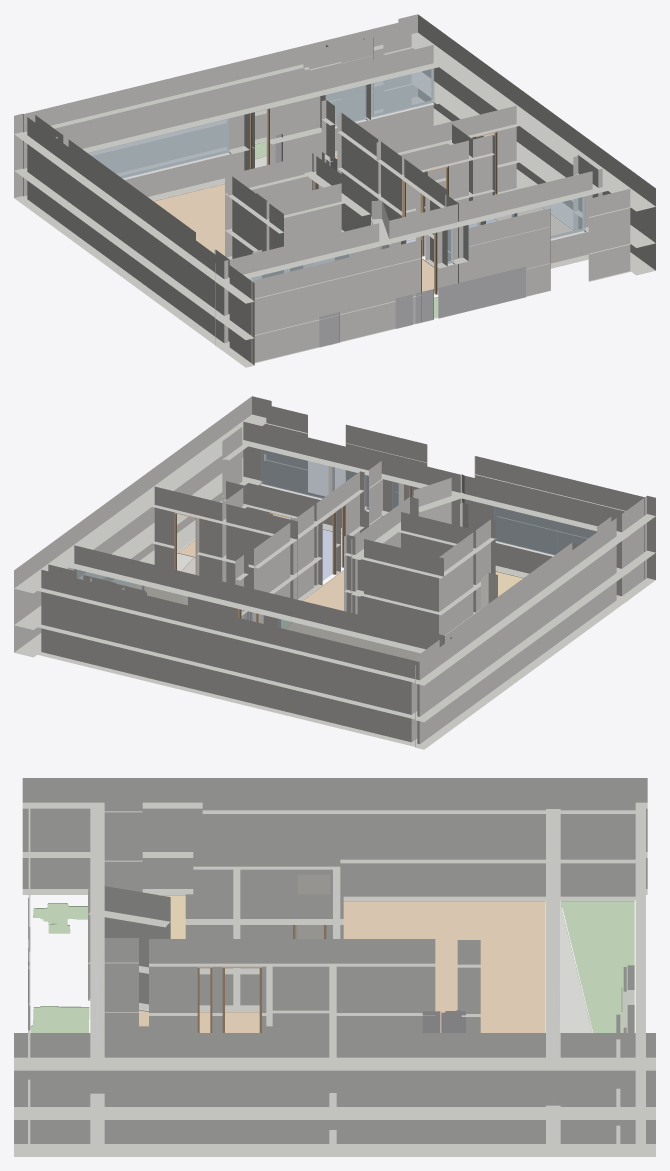
3 renders of one model, top to bottom at view 1: azimuth 30°, elevation 25°; view 2: azimuth 150°, elevation 25°; view 3: azimuth 270°, elevation 25°, orthographic. The views are drawn at different scales.
Parts seen in each view (by area): view 1: walls, railings, window_7, floor_3_Living_Room, window_6, window_5, window_8; view 2: walls, window_4, window_5, floor_3_Living_Room, window_7, floor_8_Bed_Room; view 3: walls, floor_3_Living_Room, floor_0_Outdoor, floor_1_Undefined, floor_14_Outdoor, railings, floor_13_Outdoor, furniture_0_closet, floor_10_Kitchen.
Part boxes in pixels (<box>): walls: <box>14,14,655,367</box>; railings: <box>275,134,525,347</box>; window_7: <box>88,118,229,178</box>; floor_3_Living_Room: <box>153,183,433,291</box>; window_6: <box>368,68,434,117</box>; window_5: <box>517,196,585,238</box>; window_8: <box>325,85,366,126</box>; walls: <box>14,396,655,749</box>; window_4: <box>494,506,596,555</box>; window_5: <box>261,447,331,498</box>; floor_3_Living_Room: <box>286,570,419,659</box>; window_7: <box>278,618,420,659</box>; floor_8_Bed_Room: <box>322,529,341,580</box>; walls: <box>14,778,655,1156</box>; floor_3_Living_Room: <box>139,900,545,1032</box>; floor_0_Outdoor: <box>561,900,634,1032</box>; floor_1_Undefined: <box>561,906,592,1032</box>; floor_14_Outdoor: <box>30,1006,89,1032</box>; railings: <box>28,898,465,1032</box>; floor_13_Outdoor: <box>33,903,87,933</box>; furniture_0_closet: <box>297,874,330,938</box>; floor_10_Kitchen: <box>161,895,185,938</box>.
Bounding box in the file's own units: 13.98 × 2.72 × 14.16.
